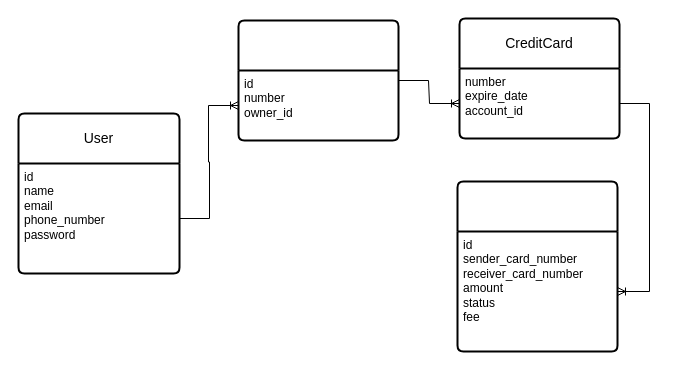
This 675x369 diagram has some shape labels left out. Here are the shapes that lost their labels. From the top down, the box of each, then its label:
(237, 19, 399, 141): Account
(456, 180, 618, 352): Transaction
